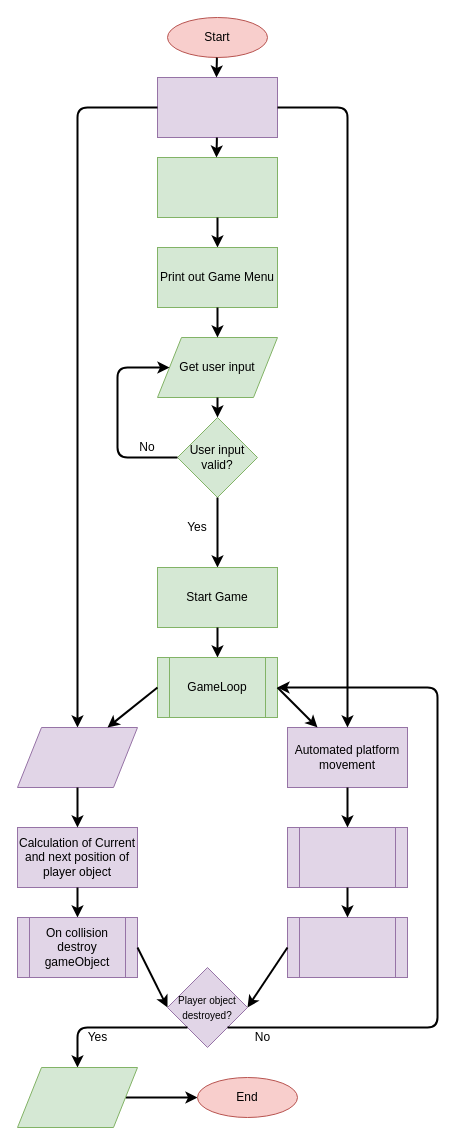
This 464x1145 diagram has some shape labels left out. The box of each missing label's shape, as (x1, y1, x2, y2) in pixels:
On collision detection with player object: (286, 916, 408, 978)
Print out player Score: (16, 1066, 138, 1128)
Random creation of platforms for summoning: (286, 826, 408, 888)
Run Engine: (156, 76, 278, 138)
Run Game: (156, 156, 278, 218)
User Input: (16, 726, 138, 788)
